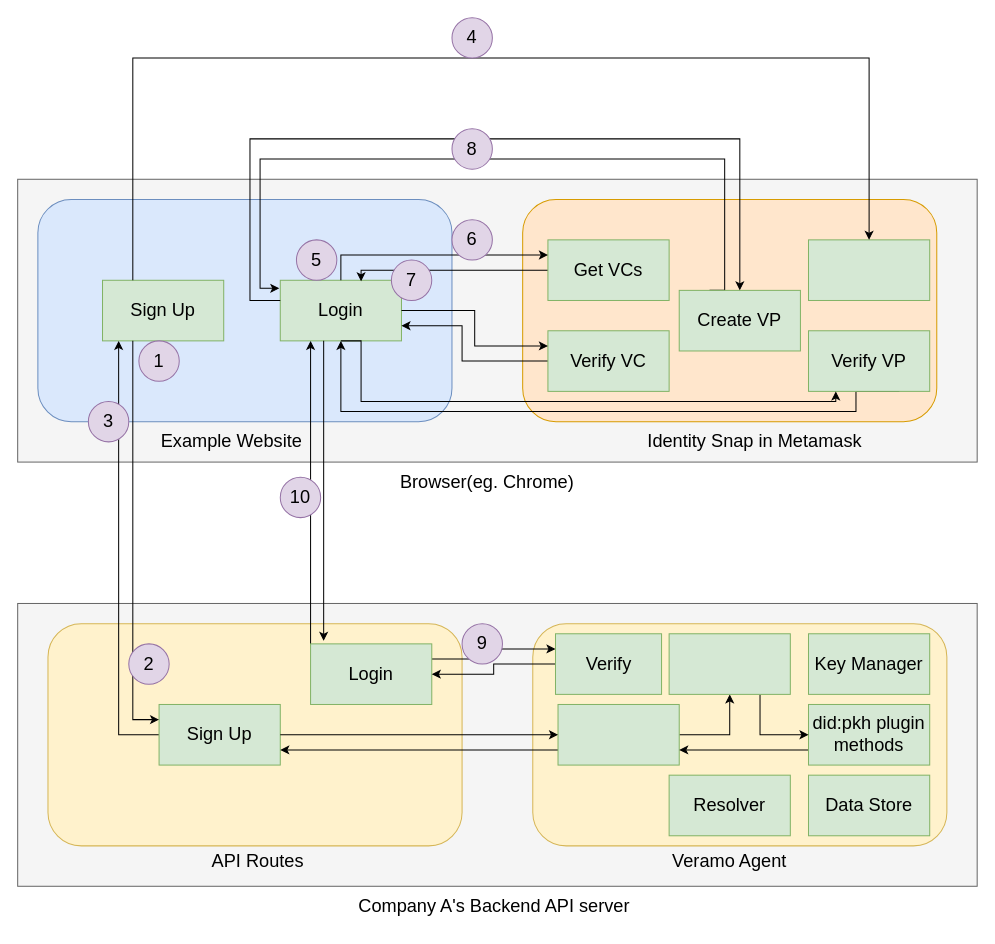
Some shapes in this 995 by 944 pixel diagram are drawn without their labels. Here are the shapes that lost their labels. From the top down, the centre of each, then its label:
At (868,269): "Save VCs".
At (729,663): "Credential Plugin".
At (618,734): "Create VC".
